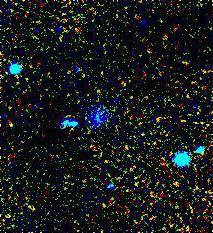star: (0, 110, 25, 140)
